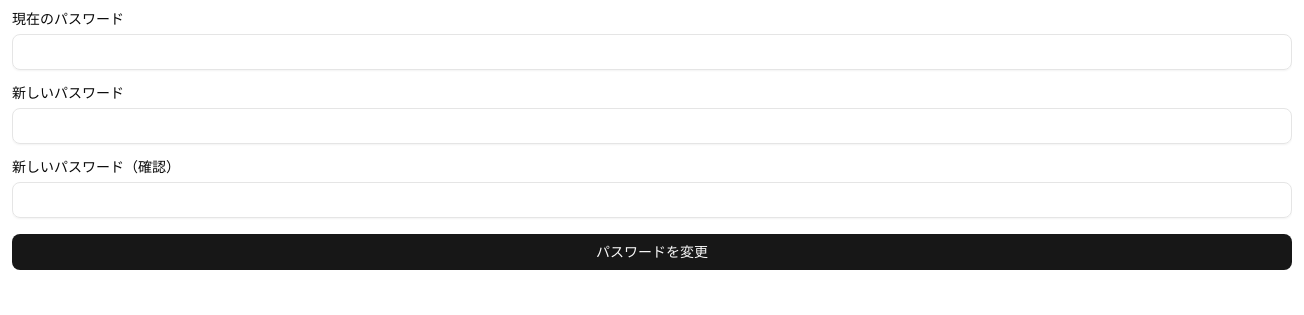
Test: PasswordForm › 新しいパスワードが8文字未満の場合バリデーションエラーが表示される
The image size is (1304, 315).
Type "current123" into the password field labelled "現在のパスワード".
click(652, 52); type("current123")  # box 12,34 -> 1292,70
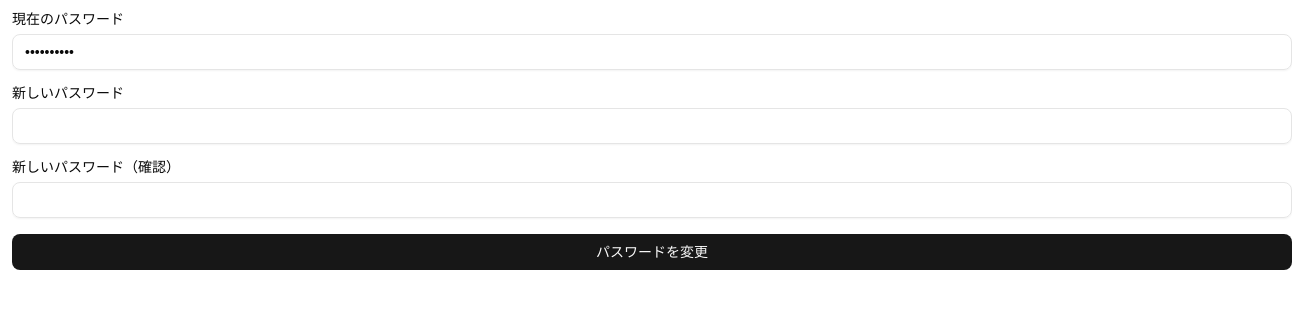
Type "short1" into the password field labelled "新しいパスワード".
click(652, 126); type("short1")  # box 12,108 -> 1292,144
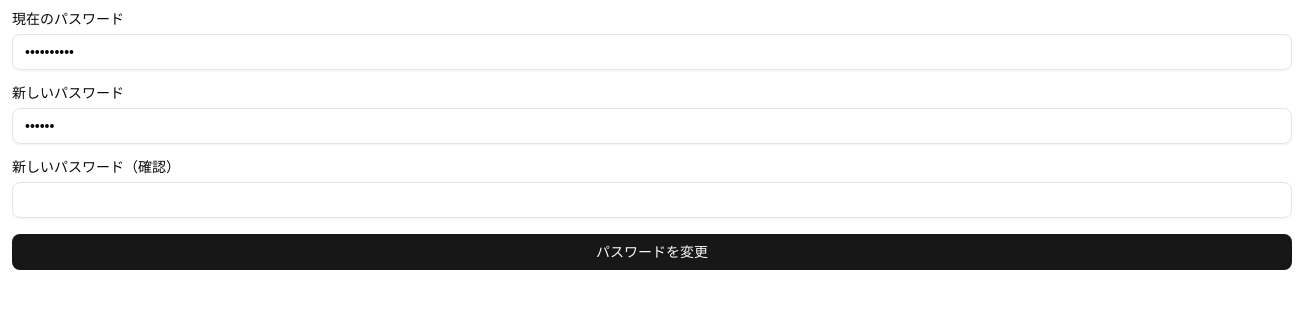
Type "short1" into the password field labelled "新しいパスワード（確認）".
click(652, 200); type("short1")  # box 12,182 -> 1292,218
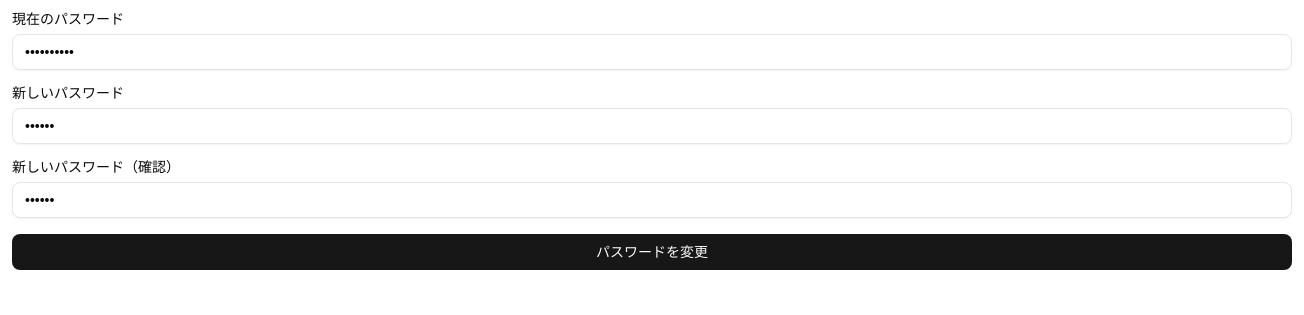
Click the button "パスワードを変更".
click(652, 252)  # box 12,234 -> 1292,270
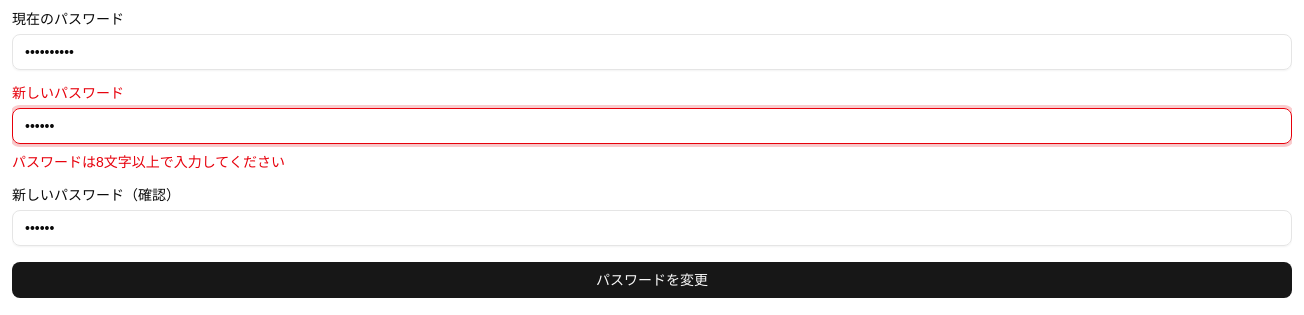
Expected: the text "パスワードは8文字以上で入力してください" is shown, 12,154 -> 285,170
